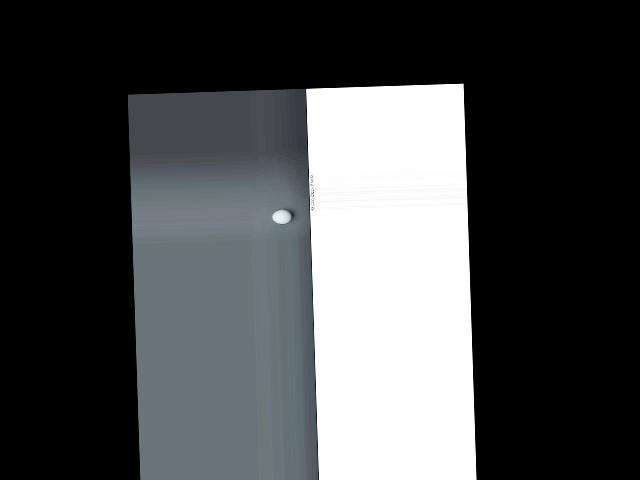egg: (272, 209, 292, 224)
